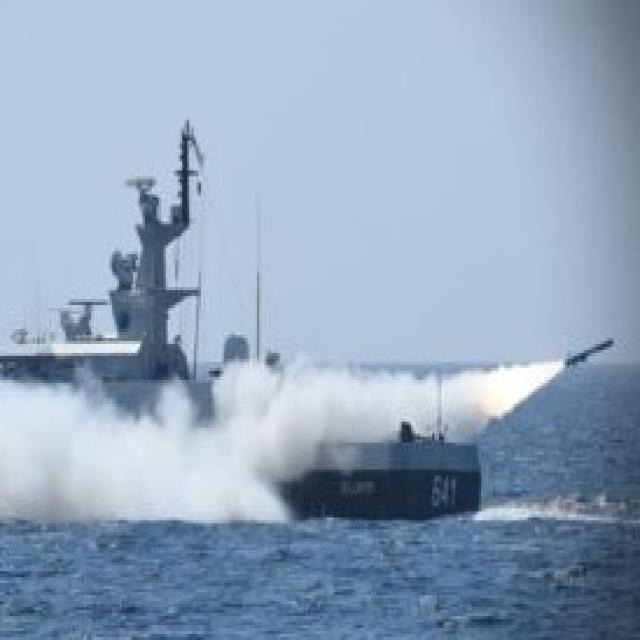navalvessels: (0, 120, 502, 529)
